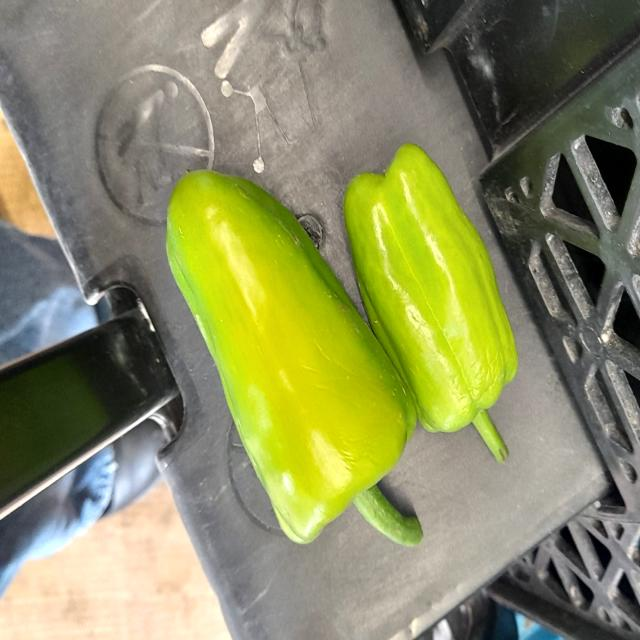bell pepper: (150, 154, 422, 554), (334, 136, 520, 472)
